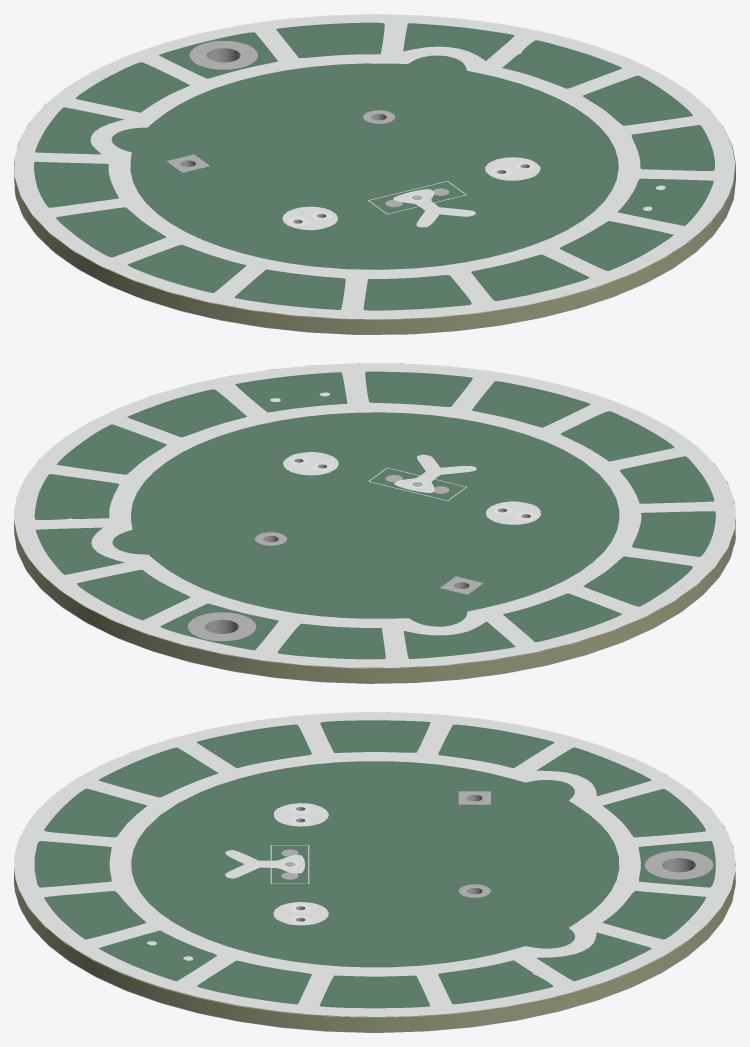
File: maibadge-bear.glb
3 views of the same model, one above another, from view 1: azimuth 30°, elevation 25°; view 2: azimuth 150°, elevation 25°; view 3: azimuth 270°, elevation 25° (orthographic).
Parts seen in each view (by area): view 1: =>[0:1:1:8], =>[0:1:1:6], =>[0:1:1:4], =>[0:1:1:2]; view 2: =>[0:1:1:8], =>[0:1:1:6], =>[0:1:1:4], =>[0:1:1:2]; view 3: =>[0:1:1:8], =>[0:1:1:6], =>[0:1:1:4], =>[0:1:1:2].
Boxes of the visible parts, box(x1,y1,x2,y2) form: =>[0:1:1:8]: box(14, 23, 735, 334); =>[0:1:1:6]: box(14, 22, 735, 334); =>[0:1:1:4]: box(14, 14, 735, 319); =>[0:1:1:2]: box(166, 41, 529, 223); =>[0:1:1:8]: box(14, 372, 735, 683); =>[0:1:1:6]: box(14, 363, 735, 683); =>[0:1:1:4]: box(14, 363, 735, 667); =>[0:1:1:2]: box(187, 458, 530, 641); =>[0:1:1:8]: box(14, 721, 735, 1032); =>[0:1:1:6]: box(14, 712, 735, 1032); =>[0:1:1:4]: box(14, 712, 735, 1016); =>[0:1:1:2]: box(281, 791, 713, 921).
Bounding box in the file's own units: 0.0672 × 0.00166 × 0.0672.
4 materials, 4 textured.
